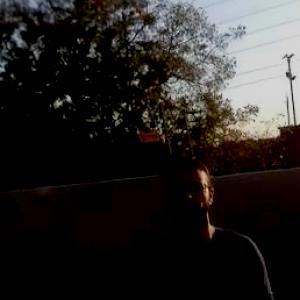follow: (133, 151, 284, 299)
